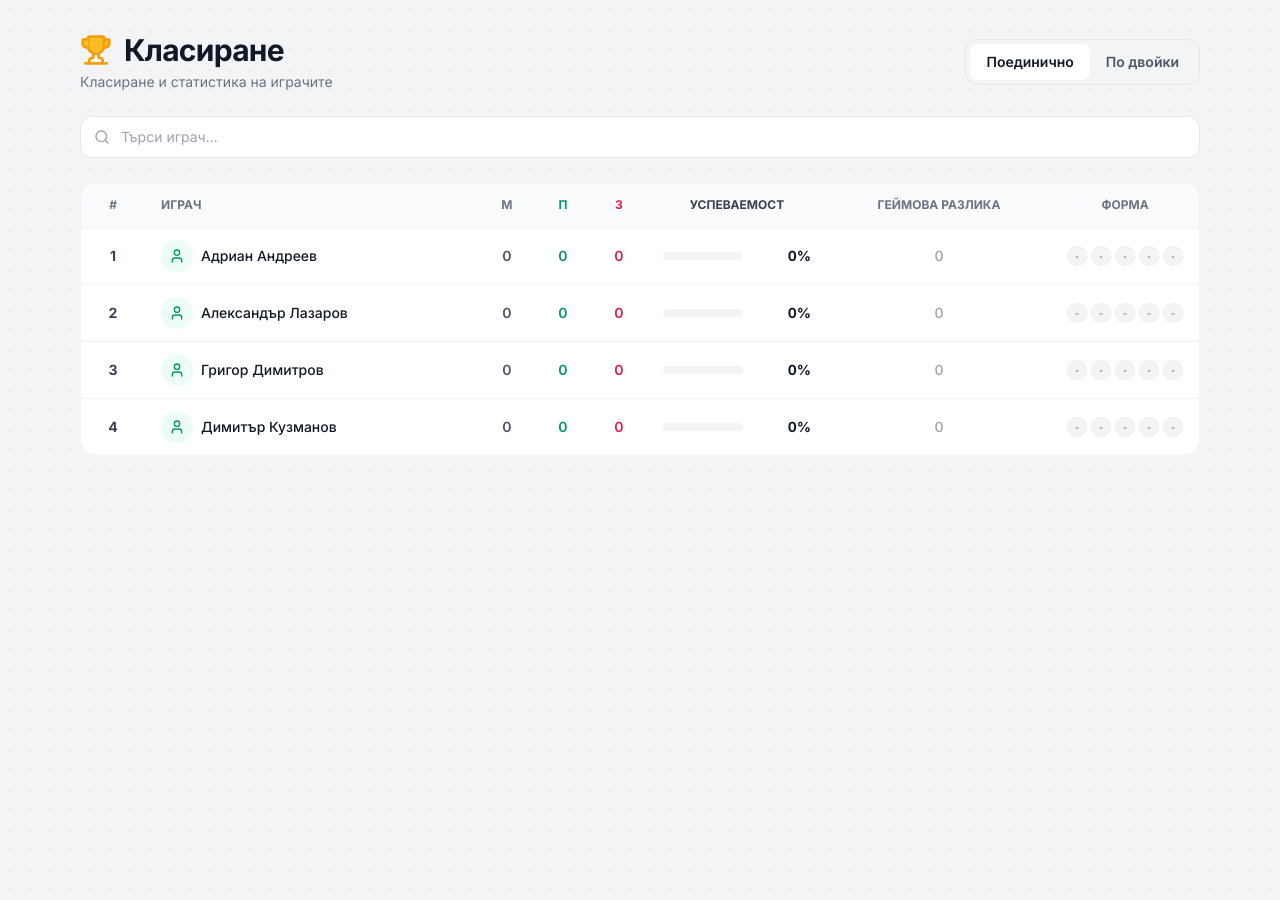
Test case: RankingsPage Component › filters rankings by search input without podium dependencies
Expected: the table is shown, x1=81 y1=183 x2=1199 y2=455
Type "Лазаров" into the field named "Търсене на играч" at (640, 137), box x1=80 y1=116 x2=1200 y2=158
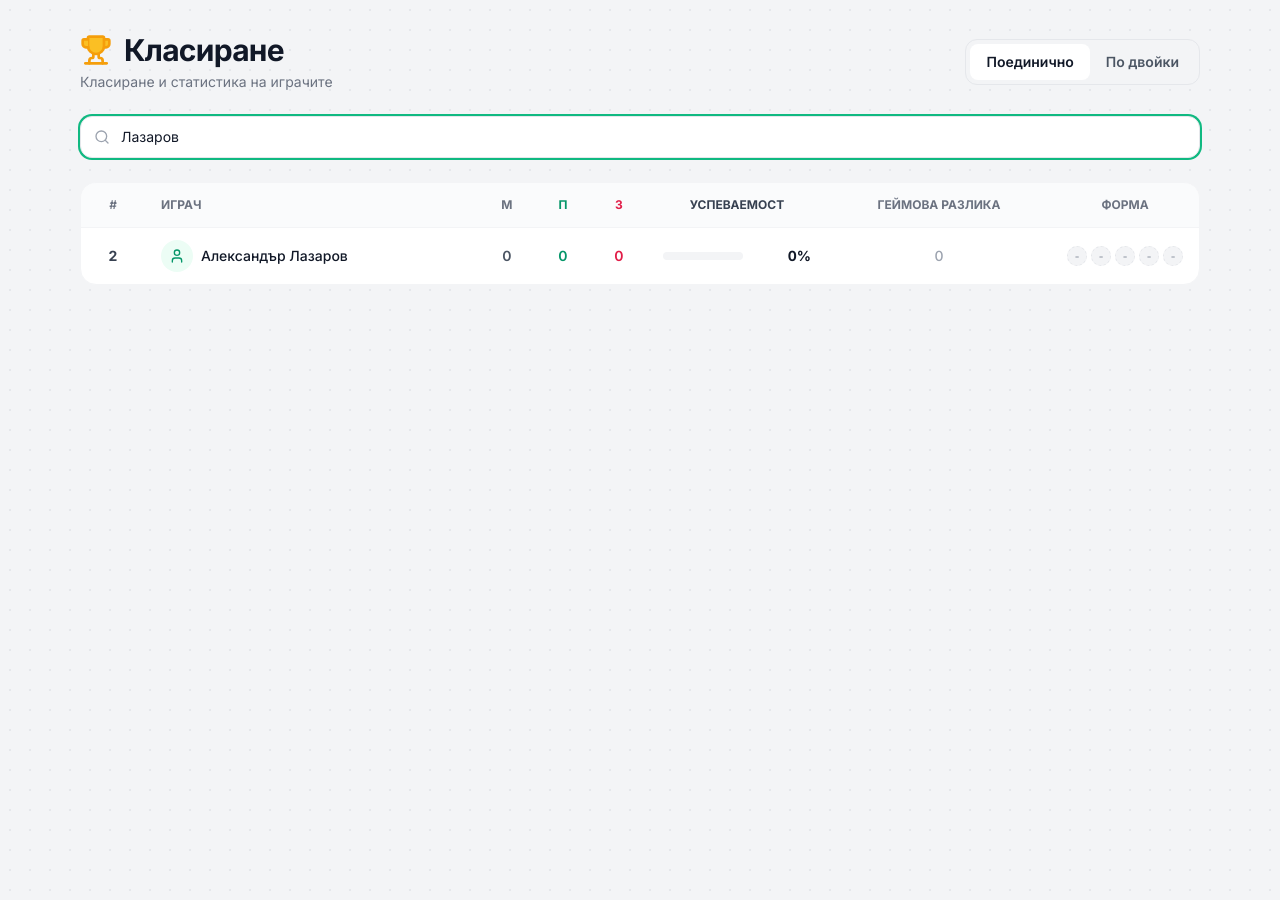
Expected: the text "Александър Лазаров" is shown, x1=201 y1=246 x2=348 y2=266
Expected: the button "Григор Димитров" is gone
